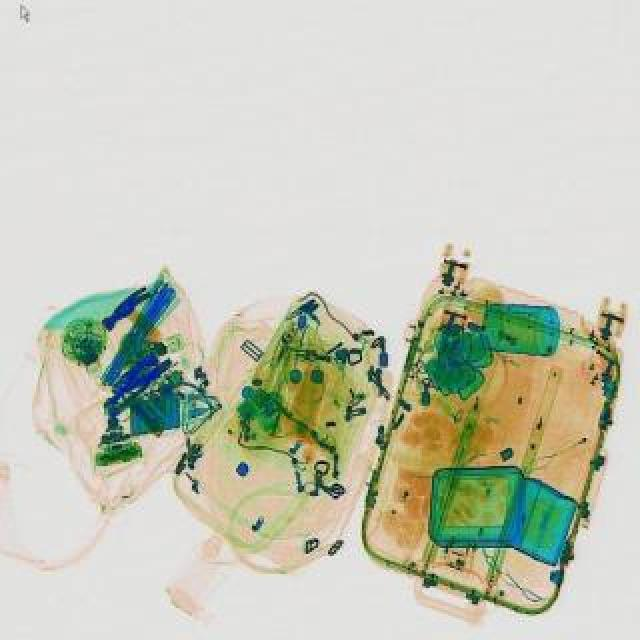wrench: (92, 340, 176, 416)
